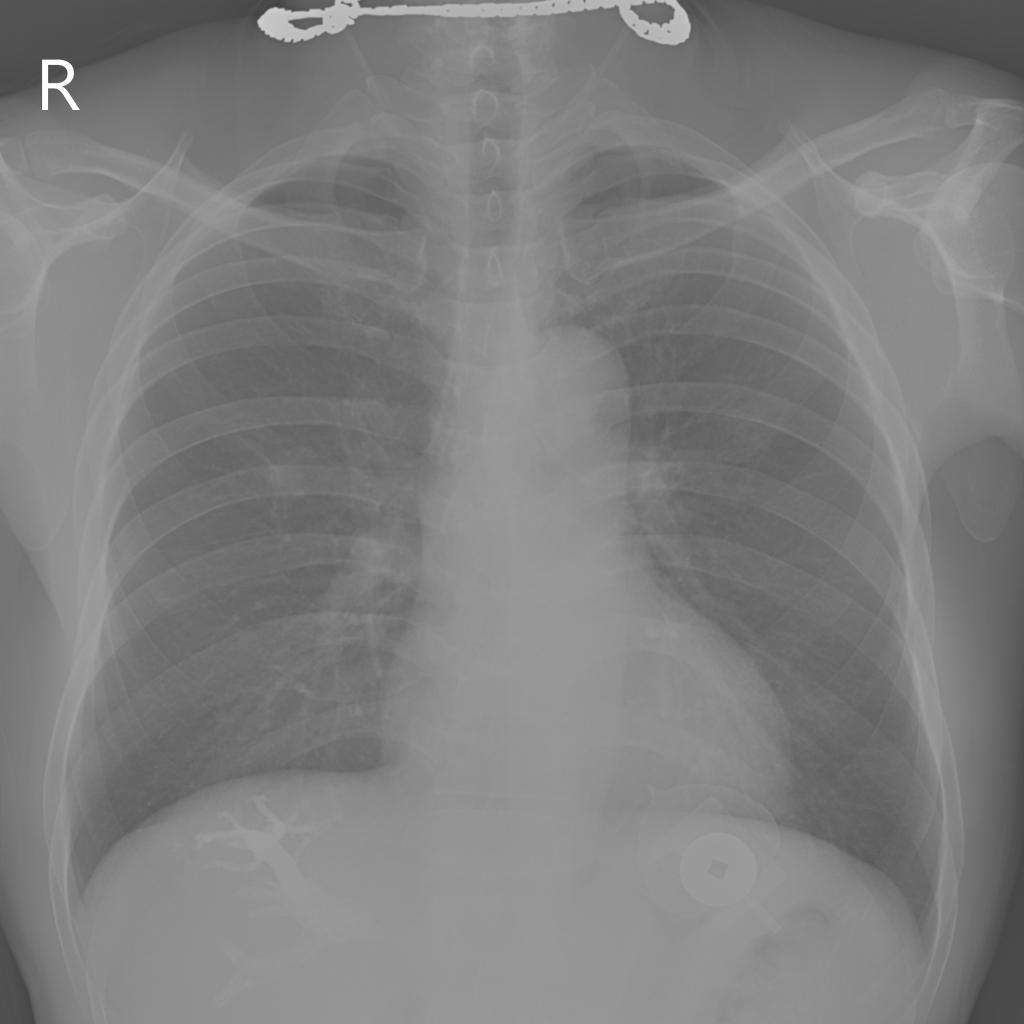Nodule: (268, 464, 307, 500)
